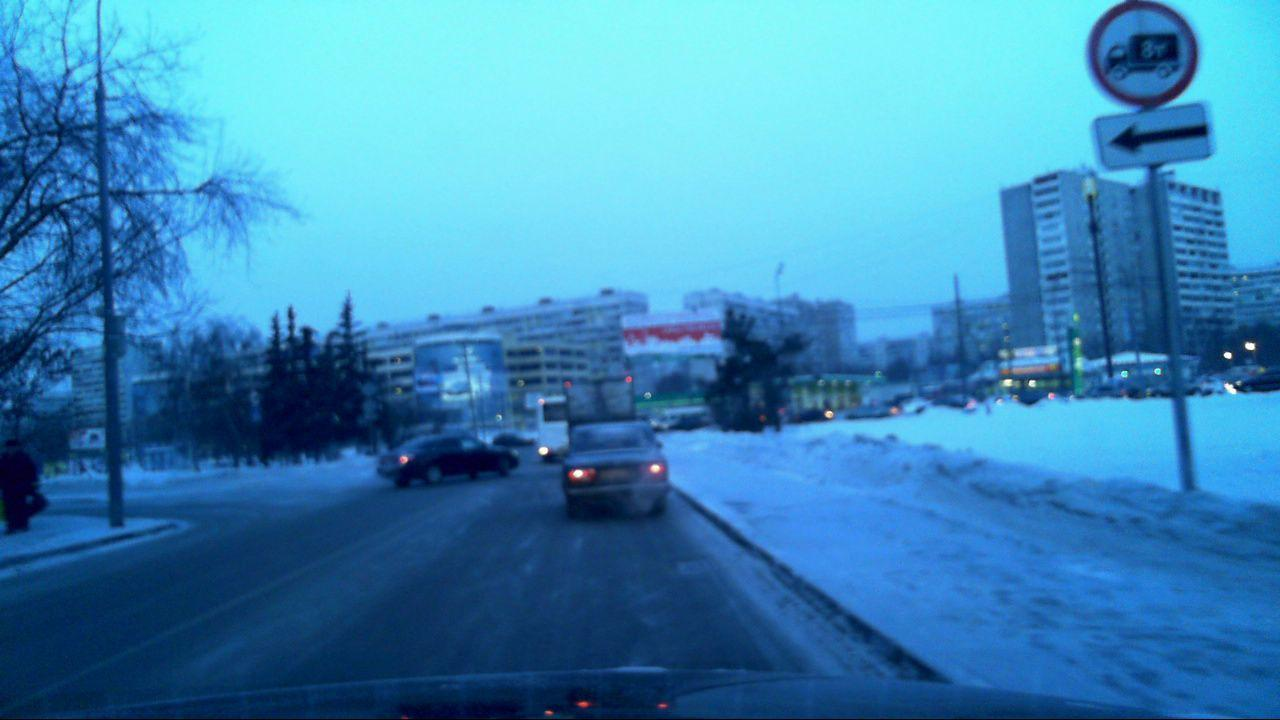3_4: (1086, 0, 1201, 105)
8_3_2: (1090, 101, 1212, 170)
